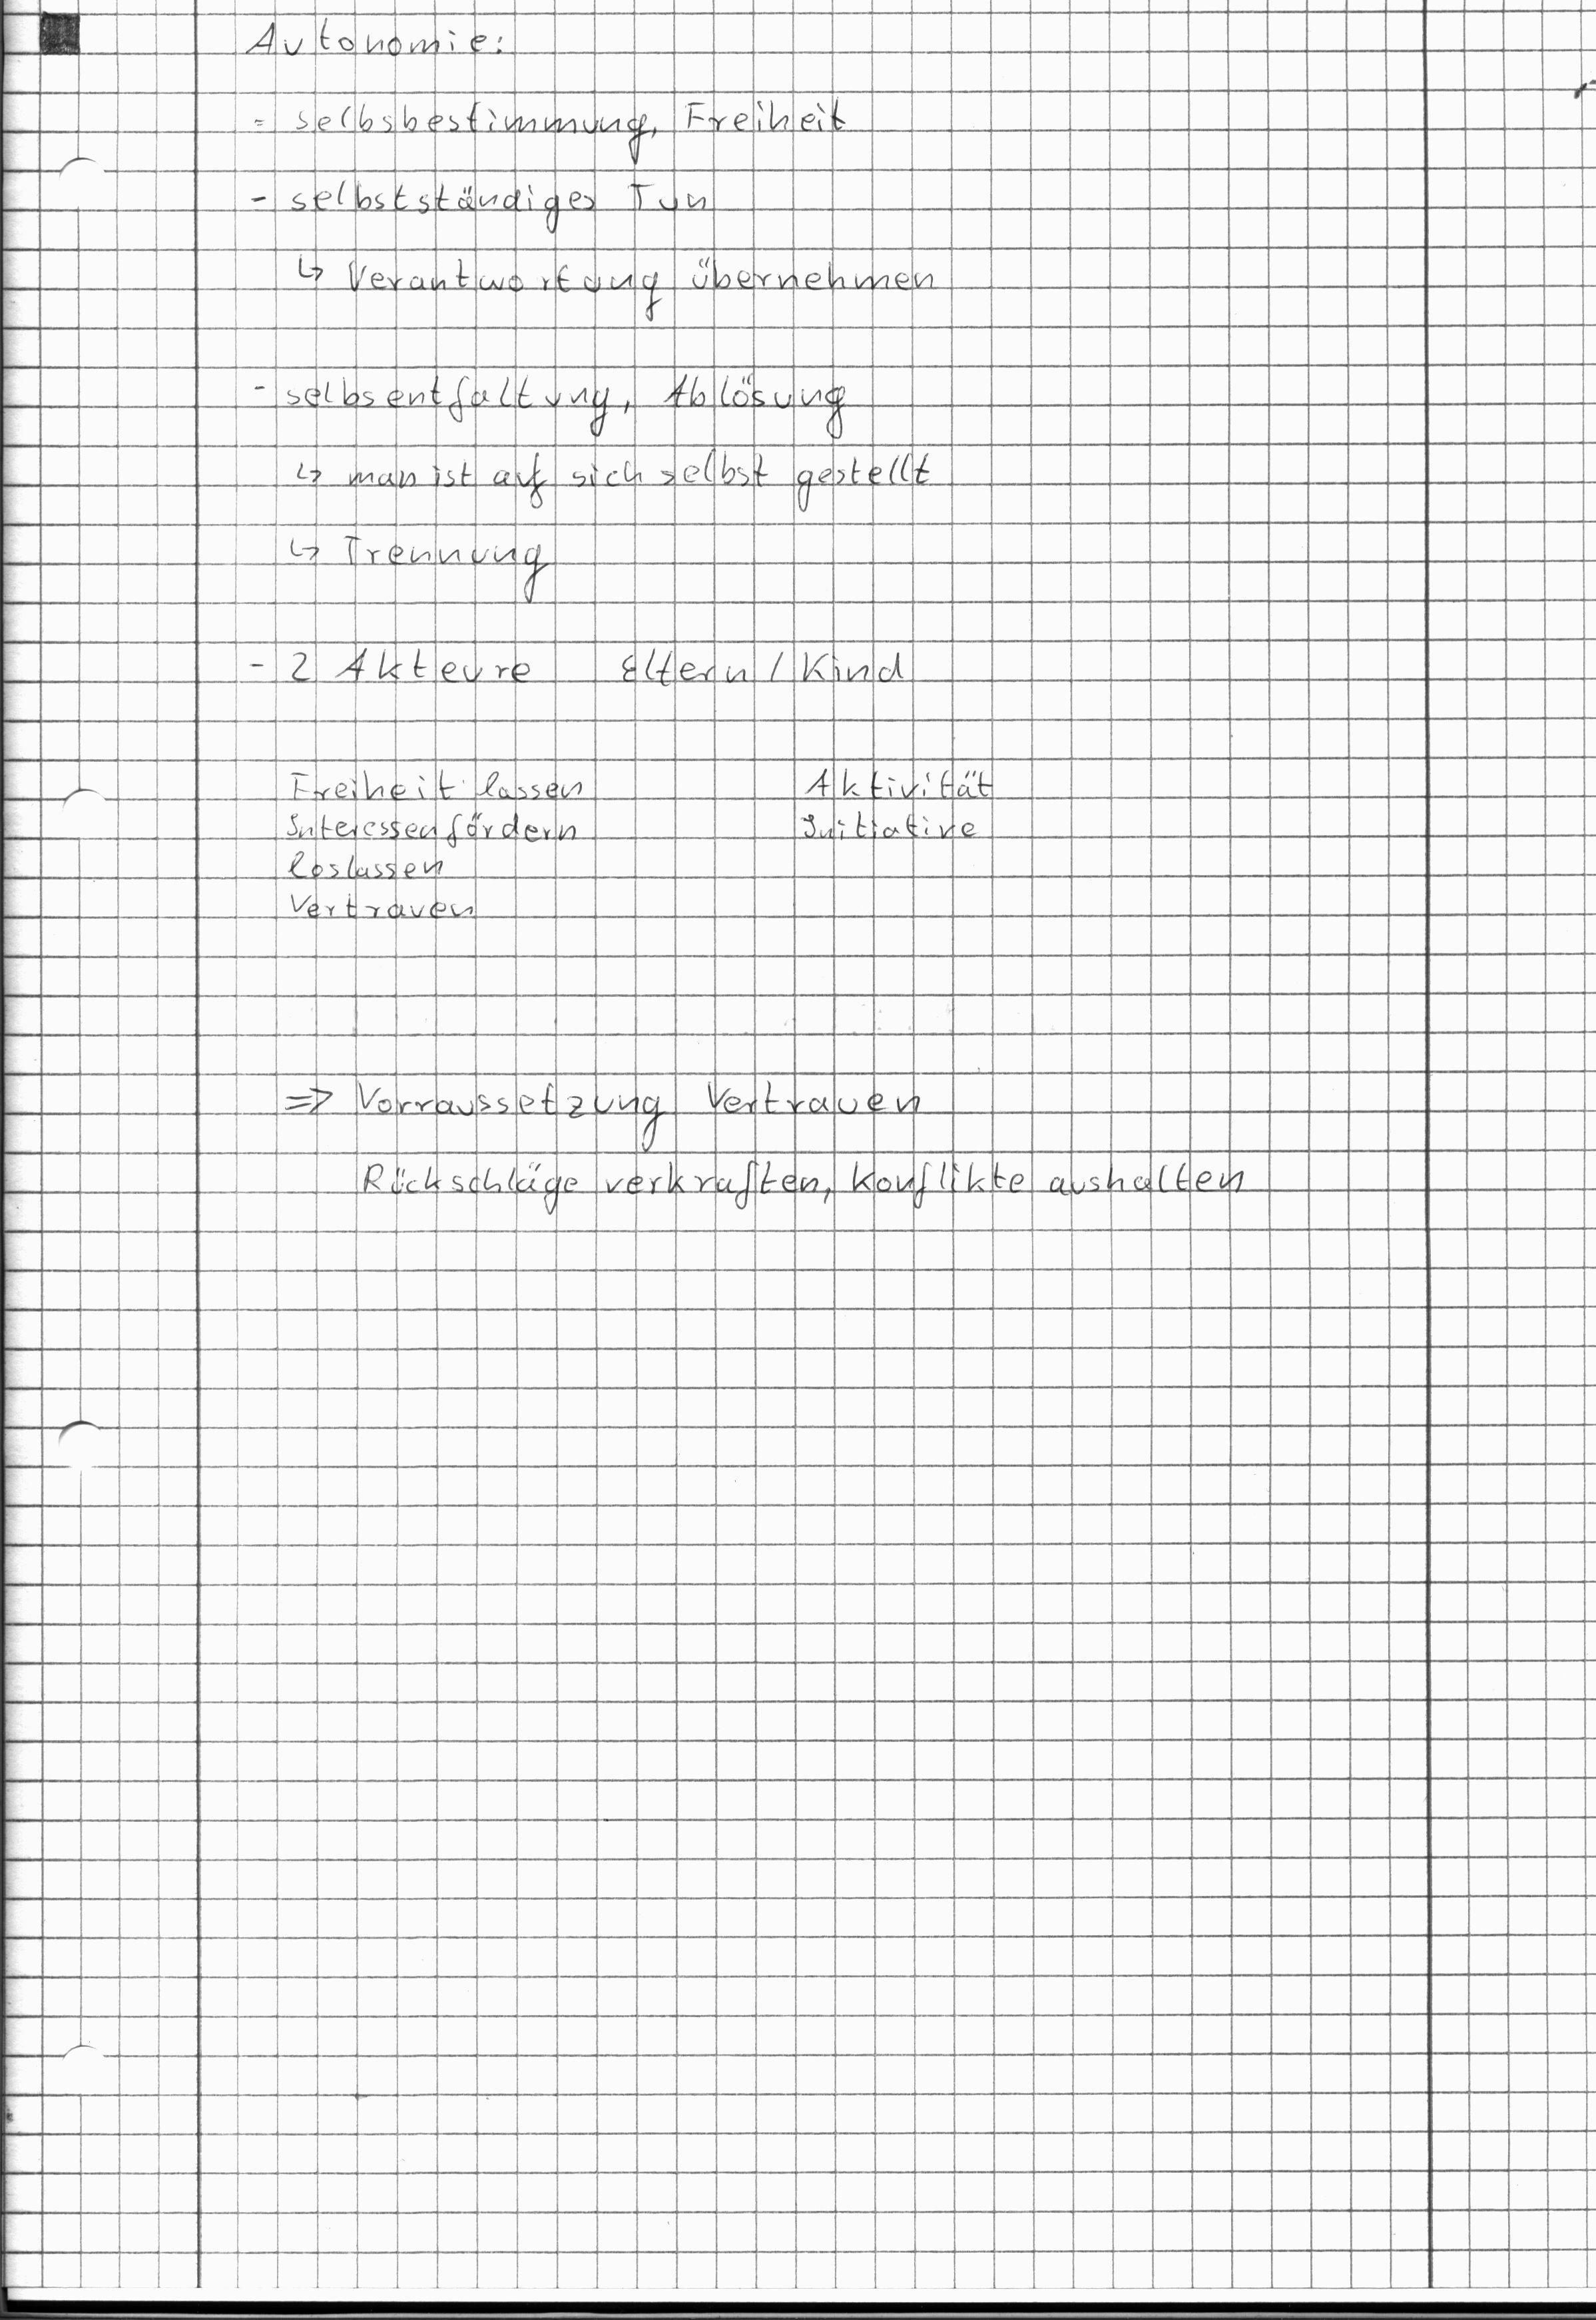word: (235, 366, 937, 619), (246, 89, 949, 338), (346, 1062, 1257, 1226), (270, 750, 595, 928), (782, 750, 1001, 870), (606, 626, 920, 707), (235, 630, 539, 704), (235, 3, 529, 74), (270, 1053, 348, 1139)
